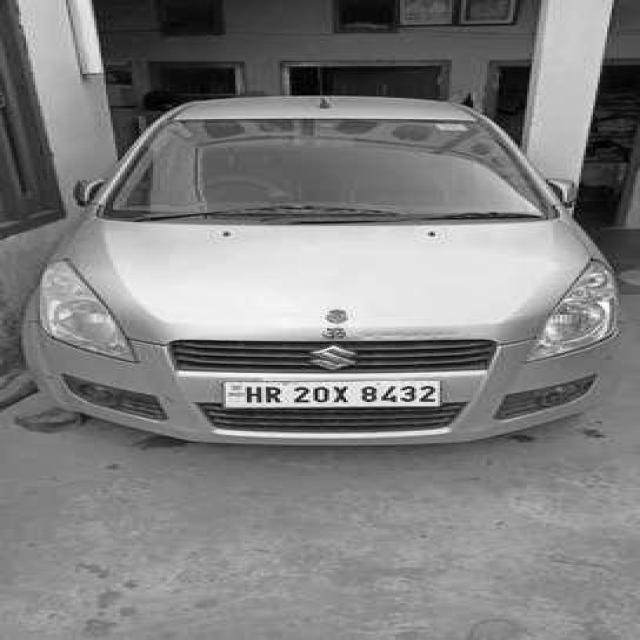car: (33, 92, 631, 450)
license-plate: (221, 381, 445, 411)
